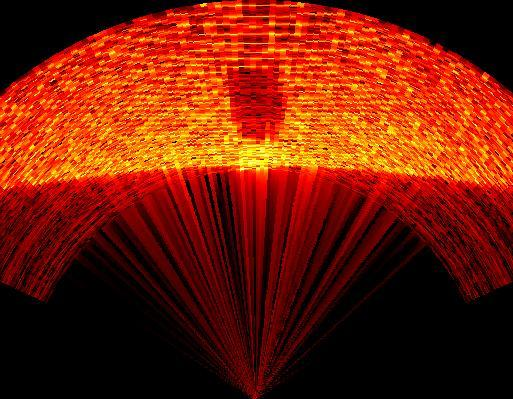box_crate: (228, 68, 286, 137)
